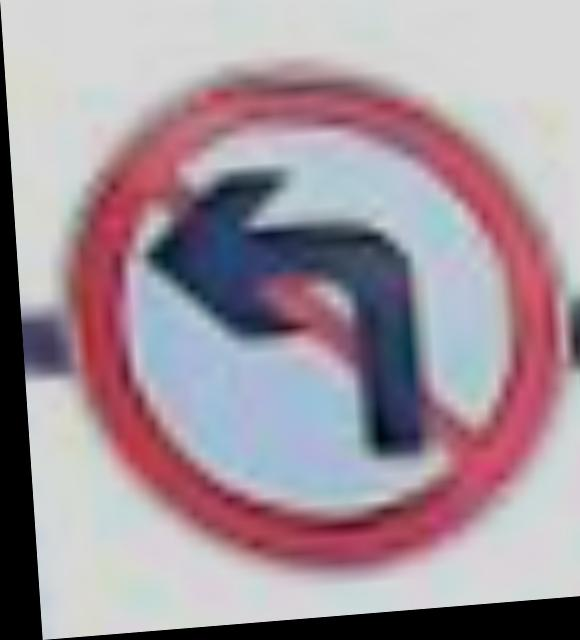not_turn_left: (69, 57, 561, 564)
